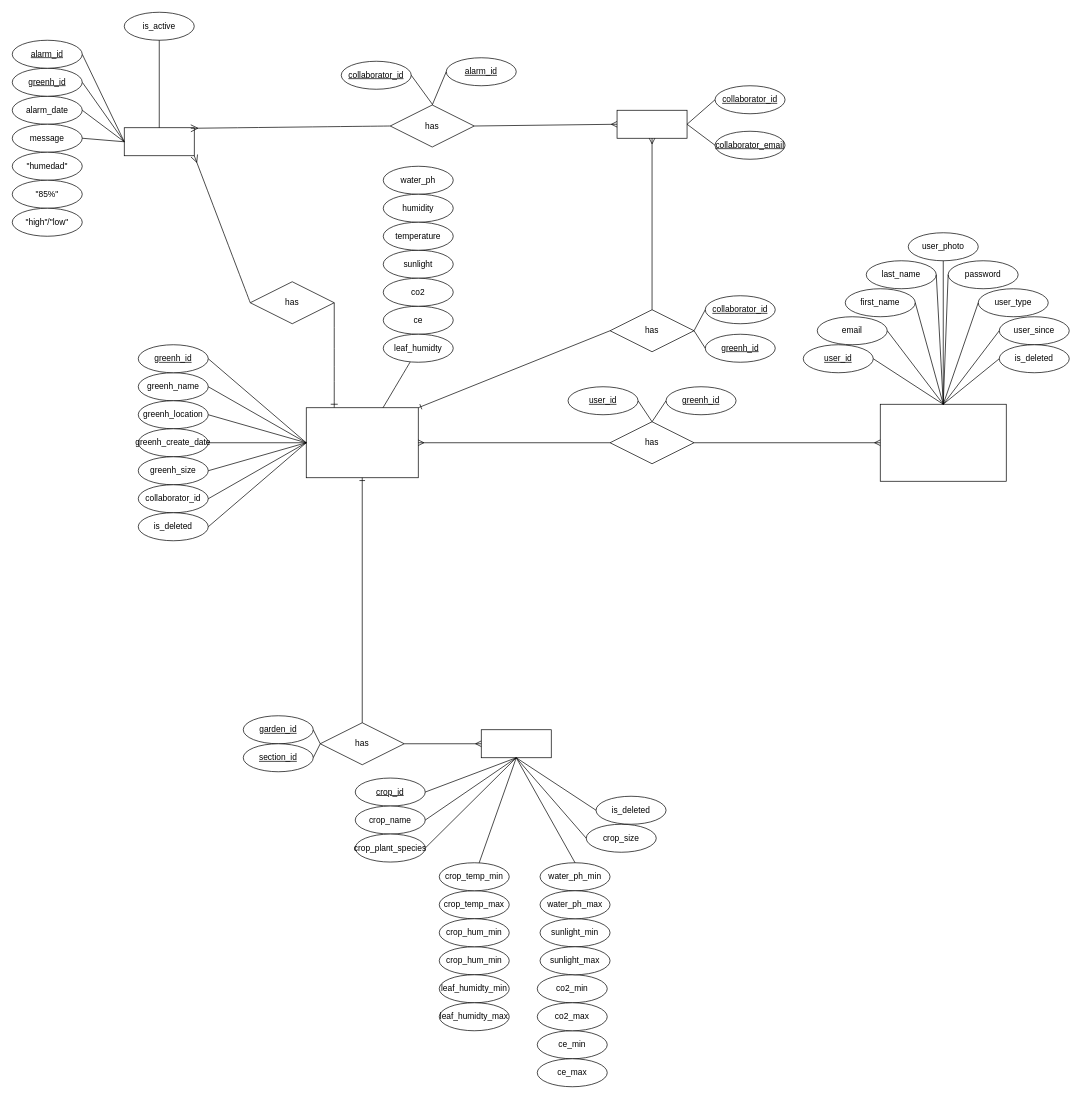
Some shapes in this 1082 by 1099 pixel diagram are drawn without their labels. The centre of each missing label's shape, as x and y in pixels:
"alarm" belongs at pixel 159 141.
"collaborator" belongs at pixel 651 124.
"crop" belongs at pixel 516 743.
"greenhouse" belongs at pixel 362 442.
"user" belongs at pixel 943 442.
